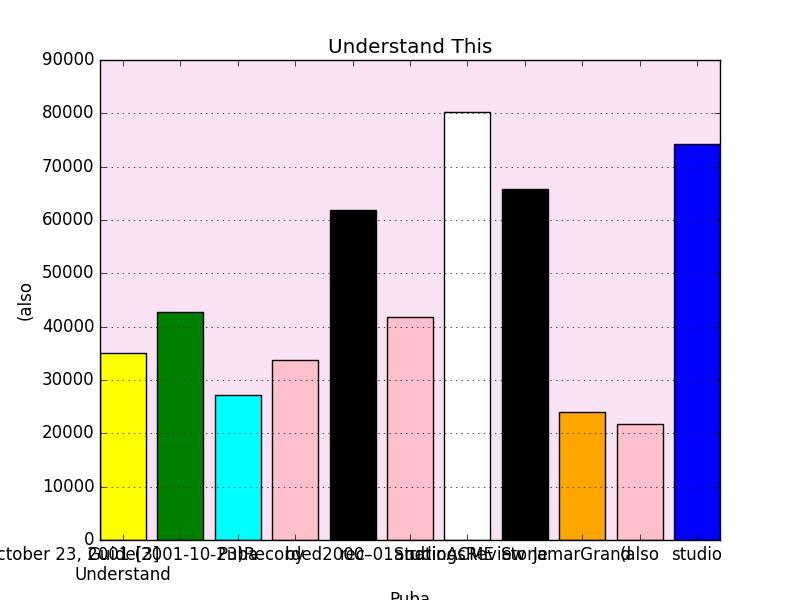axis: (18, 52, 94, 548)
rectangle: (444, 112, 490, 540), (674, 144, 720, 540), (502, 189, 548, 540), (330, 210, 376, 540), (158, 312, 204, 540), (387, 317, 433, 540), (100, 353, 146, 540), (272, 360, 318, 540), (215, 395, 261, 540), (559, 412, 605, 540), (616, 424, 662, 540)
